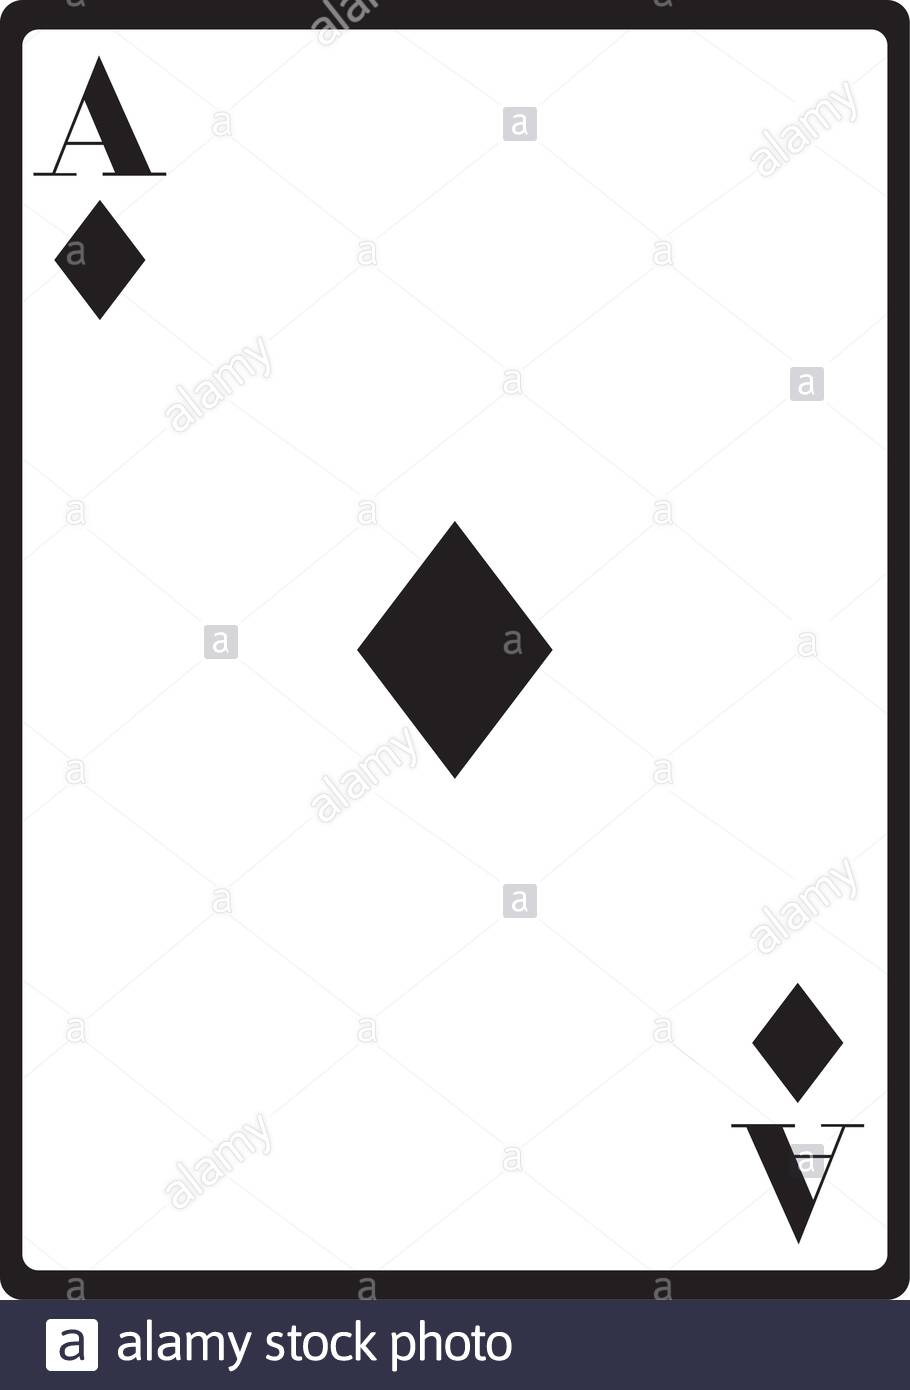ace of diamonds: (21, 26, 890, 1274)
